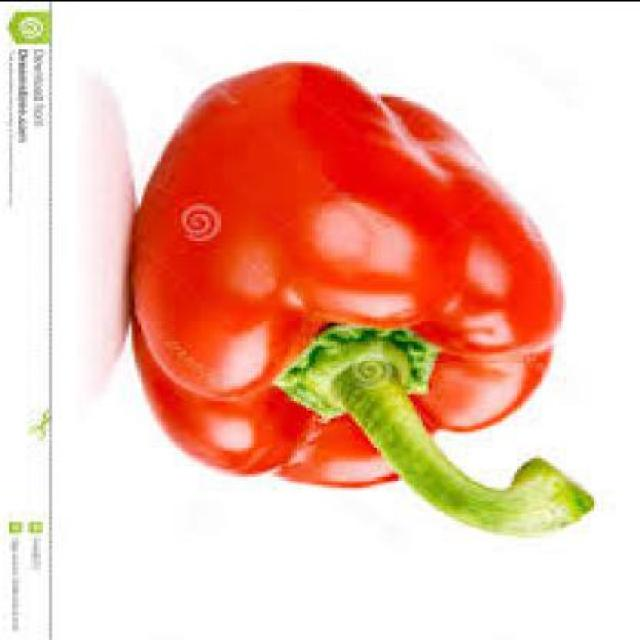BIODEGRADABLE: (134, 62, 595, 540)
